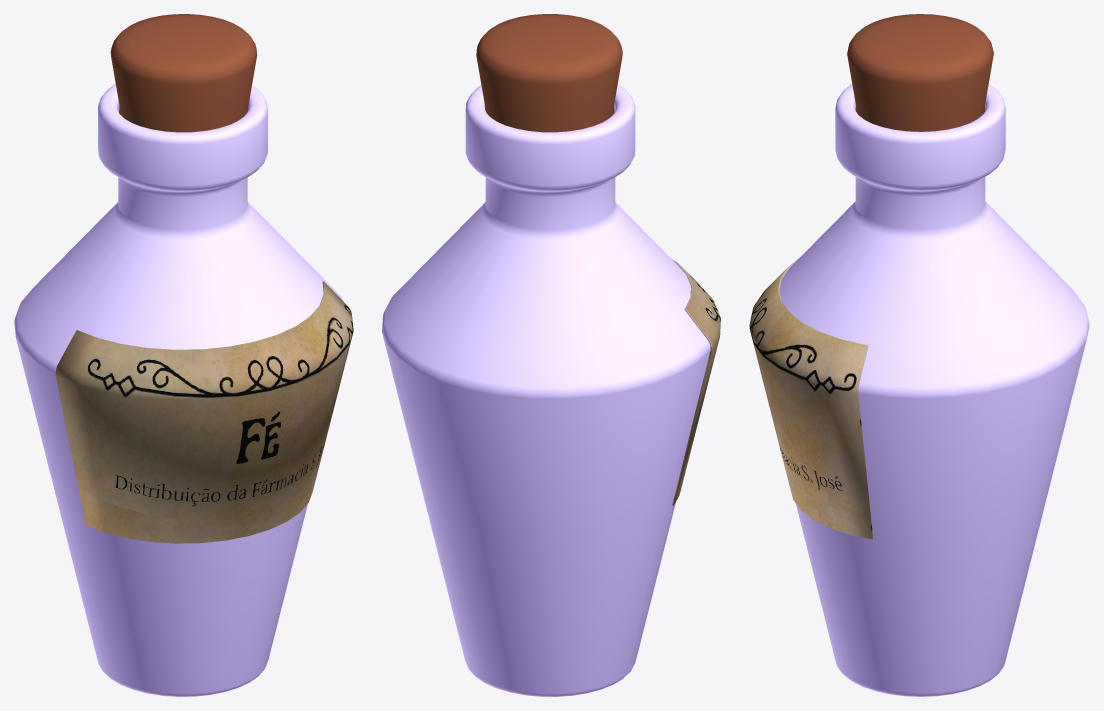
Rendered from farmacia.glb.
The picture shows the model from 3 angles, left to right: view 1: azimuth 30°, elevation 25°; view 2: azimuth 150°, elevation 25°; view 3: azimuth 270°, elevation 25°; orthographic projection.
Visible parts, largest first — view 1: Bottle.001, label.001, Bottle Cap; view 2: Bottle.001, Bottle Cap, label.001; view 3: Bottle.001, label.001, Bottle Cap.
Part boxes in pixels (x1,y1,x2,y2): Bottle.001: (14,84,343,696); label.001: (55,281,353,543); Bottle Cap: (110,14,257,132); Bottle.001: (382,84,710,696); Bottle Cap: (476,14,622,132); label.001: (671,258,720,505); Bottle.001: (779,84,1089,696); label.001: (749,257,873,539); Bottle Cap: (847,14,993,131).
Bounding box in the file's own units: 4.75 × 9.72 × 4.77.
Materials: 4 (1 with a texture image).
